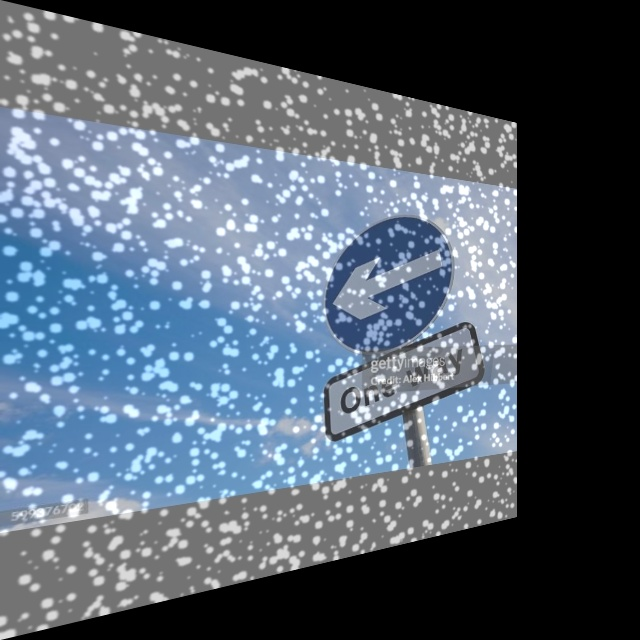Compulsory_Turn_Left: (316, 202, 453, 351)
